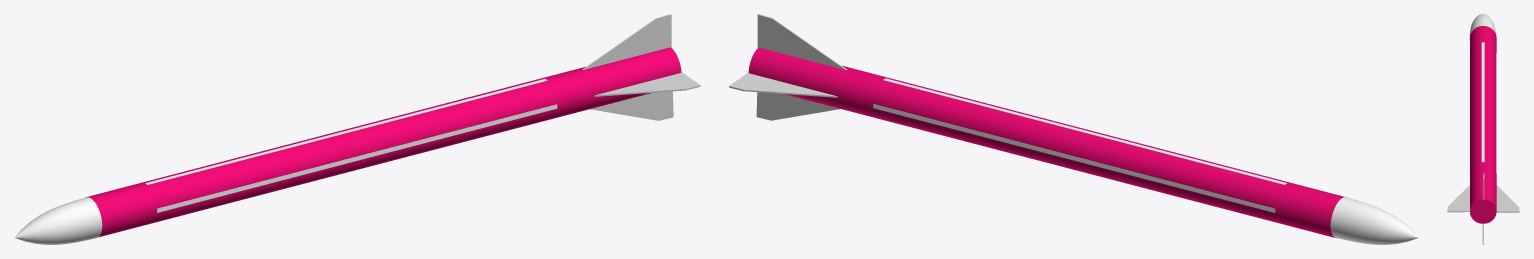
File: guidedMissile.glb
The picture shows the model from 3 angles, left to right: view 1: azimuth 30°, elevation 25°; view 2: azimuth 150°, elevation 25°; view 3: azimuth 270°, elevation 25°; orthographic projection. The views are drawn at different scales.
Parts seen in each view (by area): view 1: Cylinder, Cone, Cube_2, Cap_2_2, Cap_1_4, Cube_1, Cap_1_3; view 2: Cylinder, Cone, Cube_0, Cap_1_2, Cap_2_4, Cube_1, Cap_2; view 3: Cylinder, Cube_1, Cap_2, Cap_1_3, Cone, Cube_2, Cube_0, Wing_Extrude_1.
Part boxes in pixels (x1,y1,x2,y2): Cylinder: (86,47,681,236); Cone: (14,197,102,244); Cube_2: (157,104,557,212); Cap_2_2: (584,14,671,69); Cap_1_4: (590,91,673,120); Cube_1: (145,78,547,184); Cap_1_3: (596,72,699,95); Cylinder: (748,47,1344,238); Cone: (1330,197,1418,244); Cube_0: (873,104,1275,212); Cap_1_2: (757,14,845,70); Cap_2_4: (756,92,839,120); Cube_1: (883,78,1286,184); Cap_2: (729,73,836,96); Cylinder: (1470,26,1496,223); Cube_1: (1481,42,1484,162); Cap_2: (1496,185,1519,211); Cap_1_3: (1447,185,1469,211); Cone: (1469,14,1495,39); Cube_2: (1469,53,1469,175); Cube_0: (1496,53,1496,172); Wing_Extrude_1: (1483,173,1484,199).
Size of the model in its own units: 14.48 by 2.16 by 2.16.
